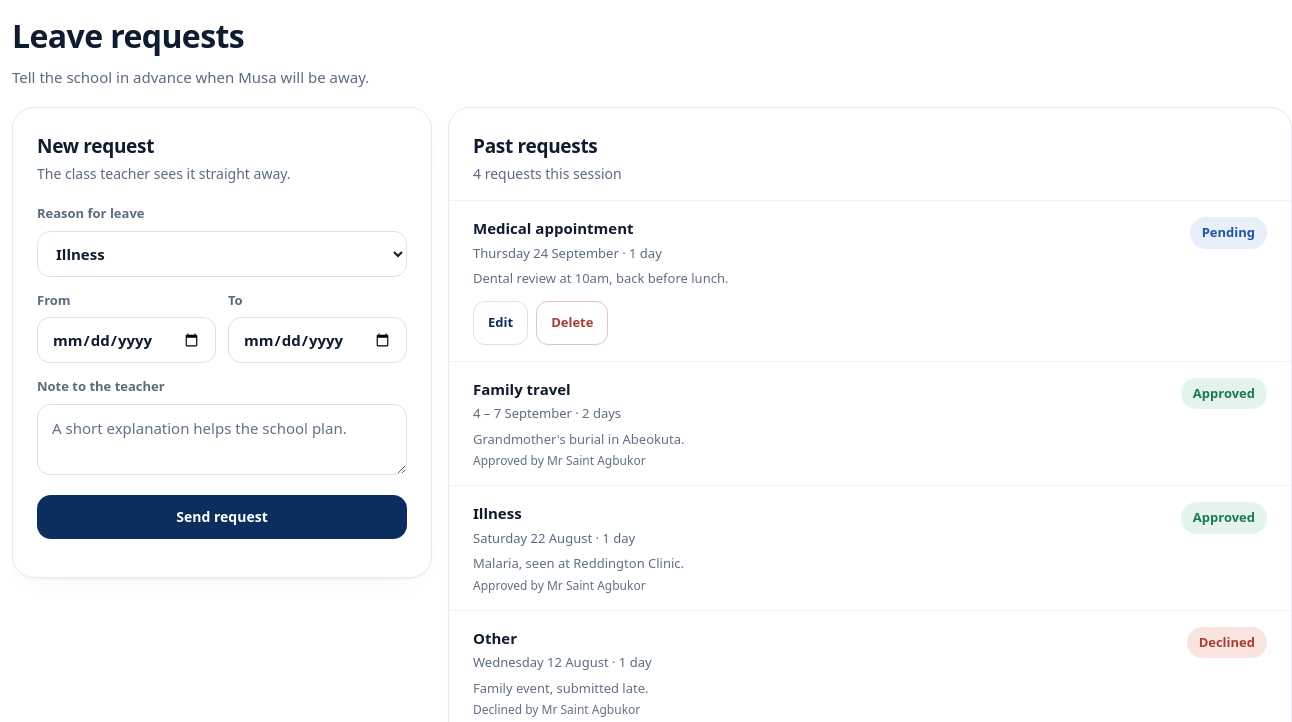
Scenario: Leave requests (fixtures) › checks the dates before sending
Check: the text "4 requests this session" is shown, box [473, 164, 622, 183]
Click the button "Send request". click: (222, 516)
box: [37, 494, 407, 538]
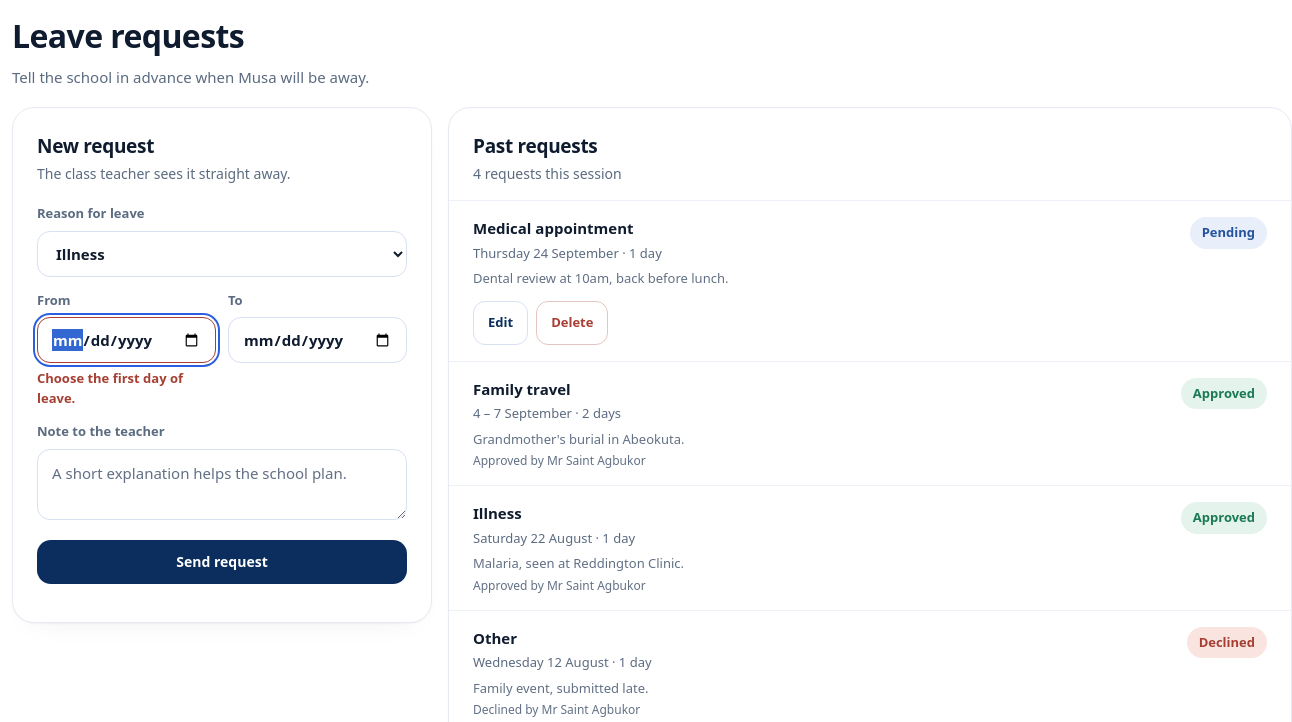
Check: the text "Choose the first day of leave." is shown, box [37, 369, 183, 406]
